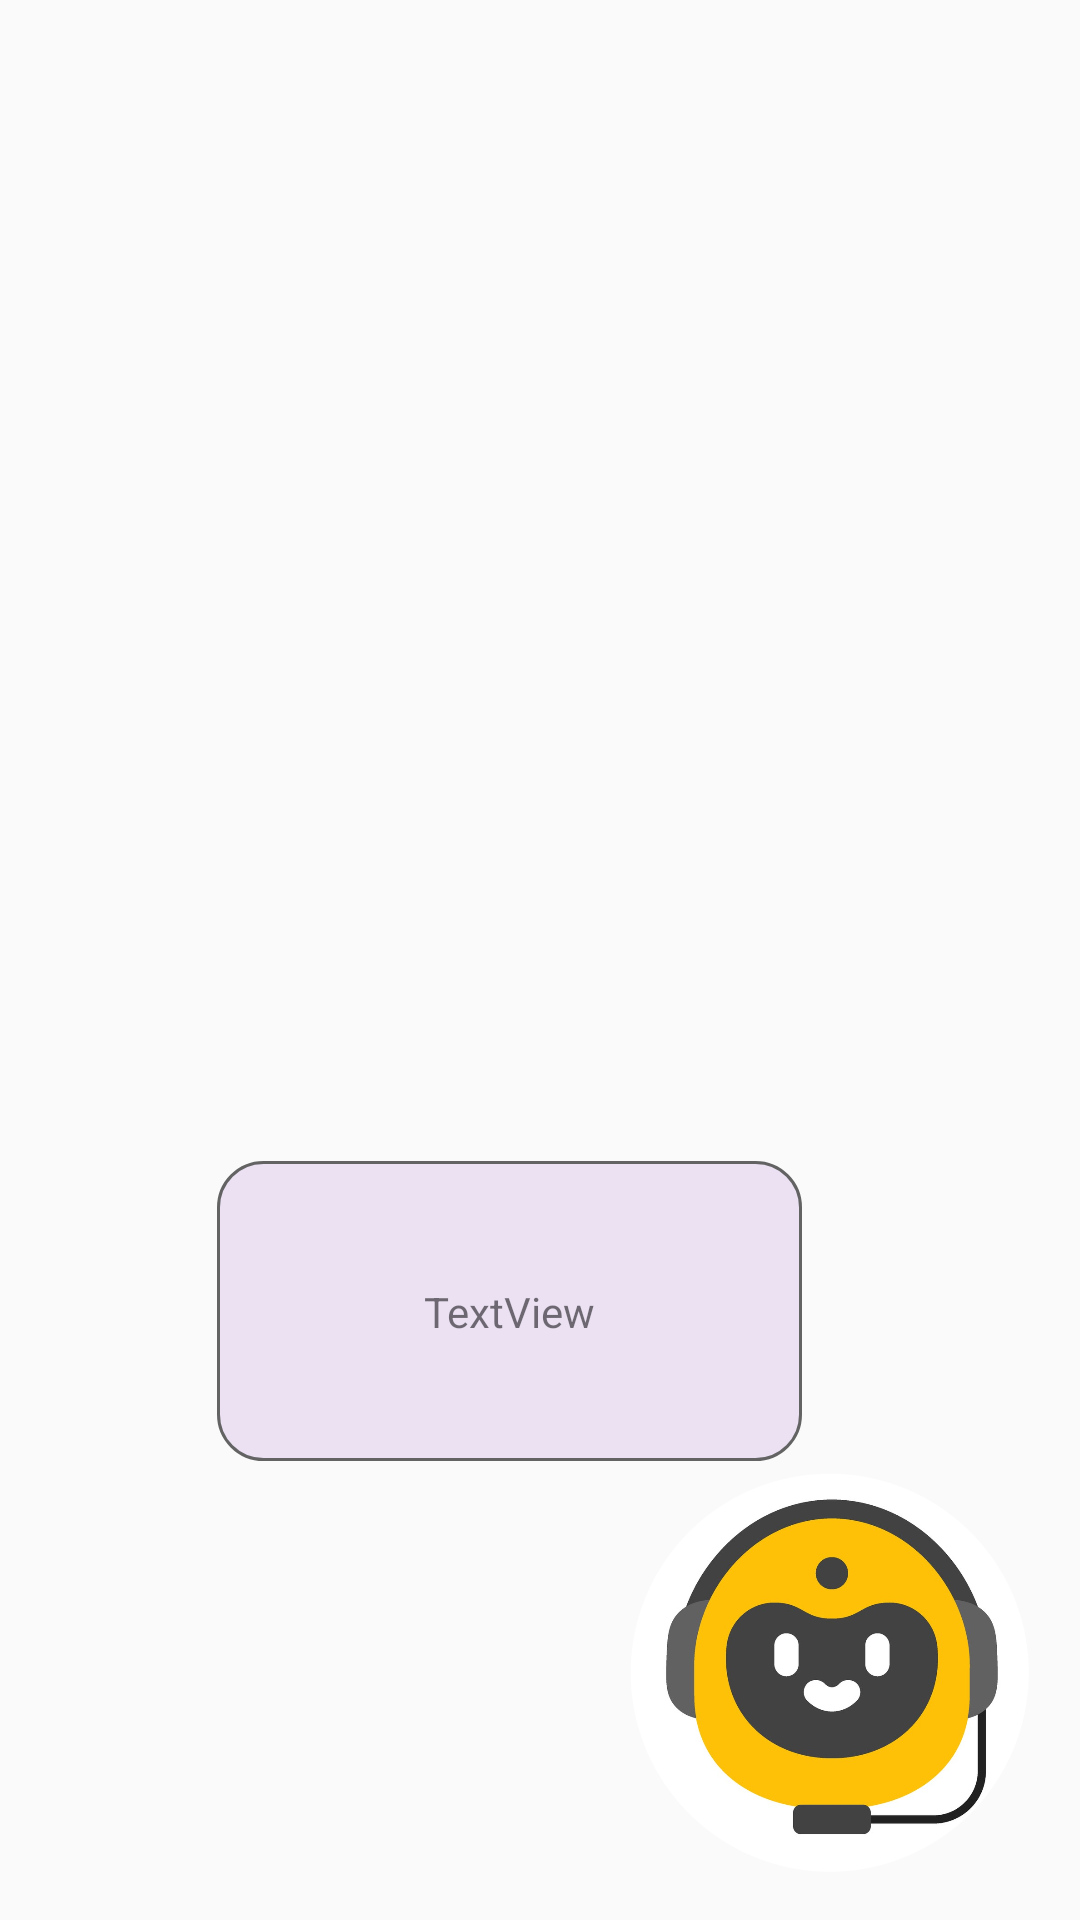

Where to tap for icons on this 1080w x 1920h app screen, as point (x, y):
robots face: point (832, 1666)
